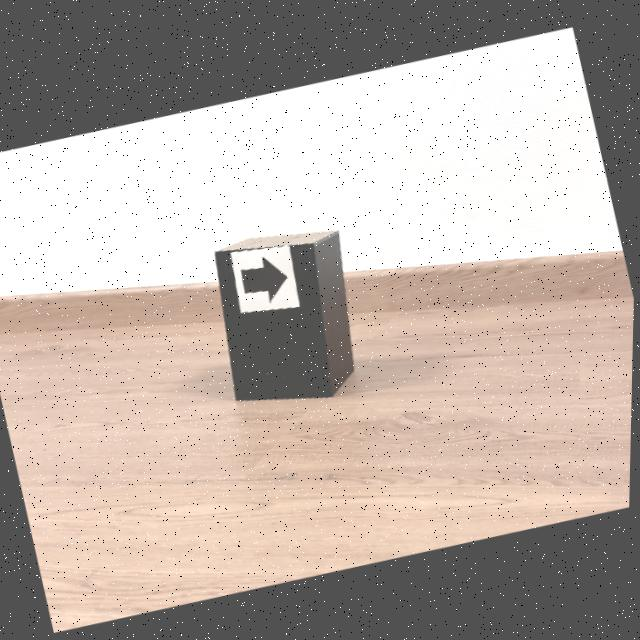RIGHT: (242, 255, 288, 299)
